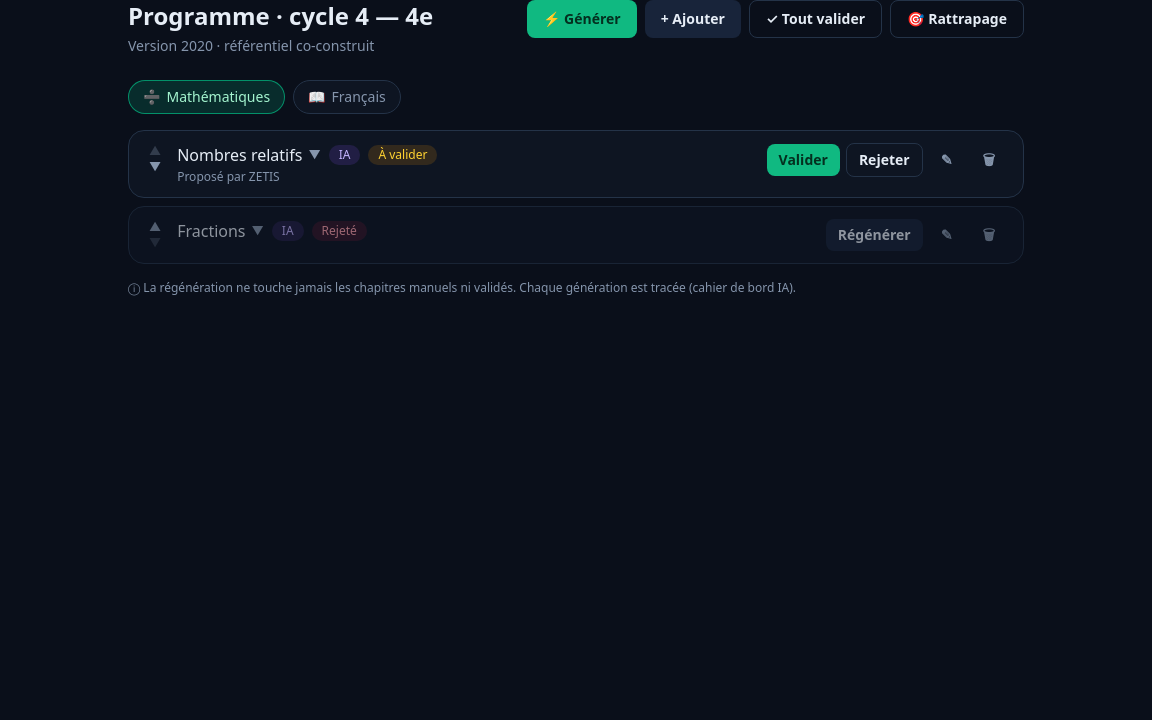
Test: ProgrammePage › validation par lot : bouton → modal avec compte → confirmation → API + notice
This screenshot has width=1152, height=720.
Expected: the text "Nombres relatifs" is shown, top-left (177, 143), bottom-right (302, 167)
Click the button "✓ Tout valider".
click(816, 19)  # box top-left (749, 0), bottom-right (882, 38)
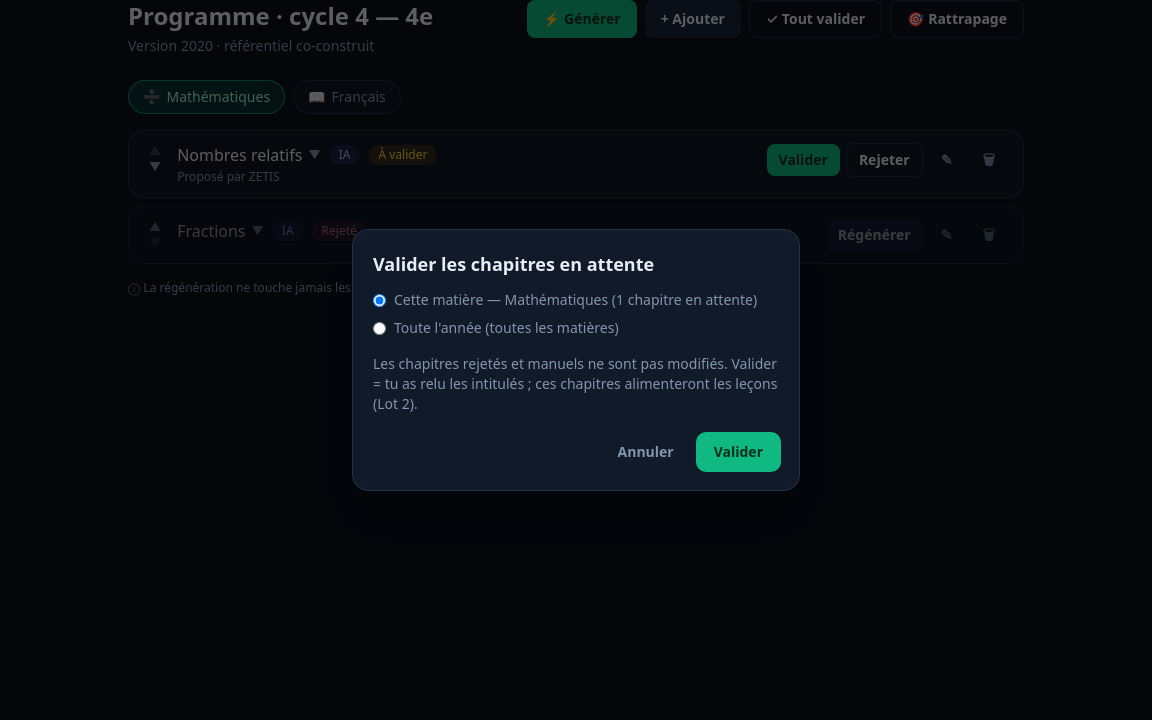
Expected: the dialog shows "Cette matière — Mathématiques (1 chapitre en attente)", top-left (352, 229), bottom-right (800, 491)
Expected: the dialog shows "Les chapitres rejetés et manuels ne sont pas modifiés", top-left (373, 354), bottom-right (777, 413)
Click the button "Valider".
click(738, 452)  # box top-left (698, 434), bottom-right (779, 470)
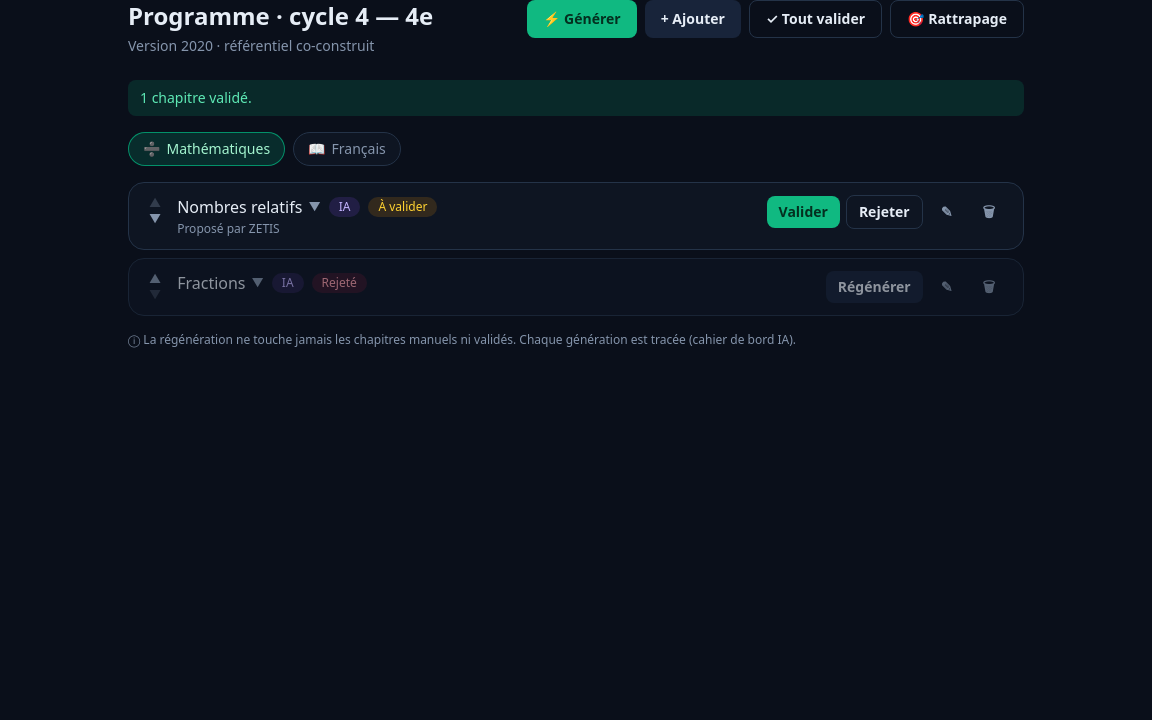
Expected: the text "1 chapitre validé." is shown, top-left (128, 80), bottom-right (1024, 116)
